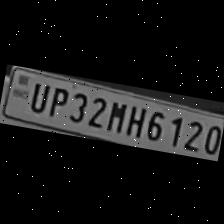0: (198, 117, 223, 154)
1: (161, 110, 185, 146)
2: (178, 114, 205, 150), (83, 90, 108, 128)
3: (64, 86, 90, 122)
6: (140, 104, 166, 142)
H: (122, 99, 147, 138)
M: (103, 94, 129, 132)
P: (43, 80, 70, 118)
U: (24, 78, 48, 113)
